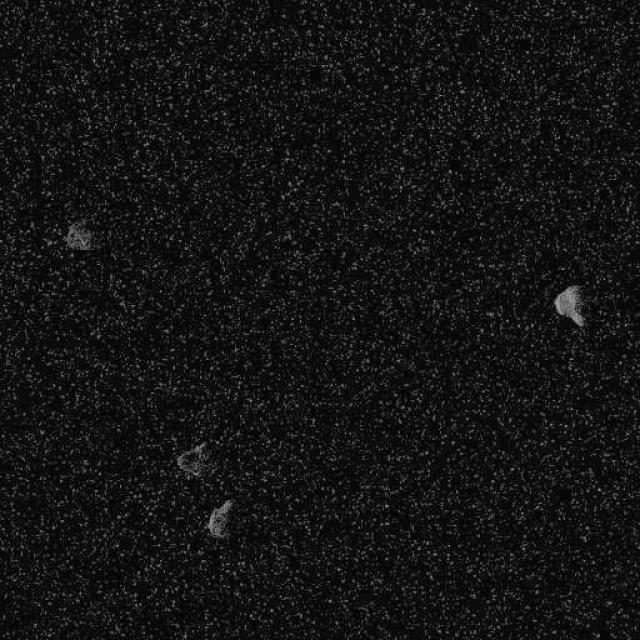D2: (175, 438, 215, 478), (552, 282, 586, 328), (205, 498, 234, 540), (65, 219, 95, 251)
